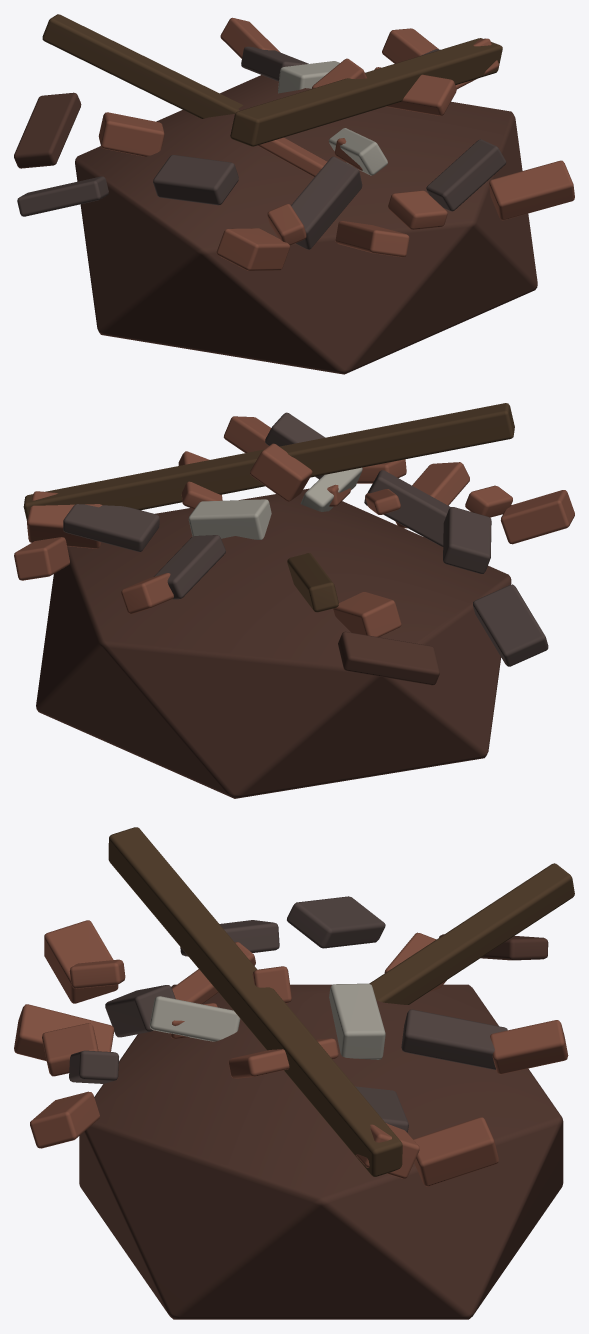
The model's file is puin.glb.
3 views of the same model, one above another, from view 1: azimuth 30°, elevation 25°; view 2: azimuth 150°, elevation 25°; view 3: azimuth 270°, elevation 25° (orthographic). The views are drawn at different scales.
Visible parts, largest first — view 1: Puin; view 2: Puin; view 3: Puin.
Boxes of the visible parts, x1,y1,x2,y2 form: Puin: (14, 14, 574, 374); Puin: (14, 403, 574, 798); Puin: (14, 827, 574, 1319).
Size of the model in its own units: 3.07 by 2.01 by 2.56.
